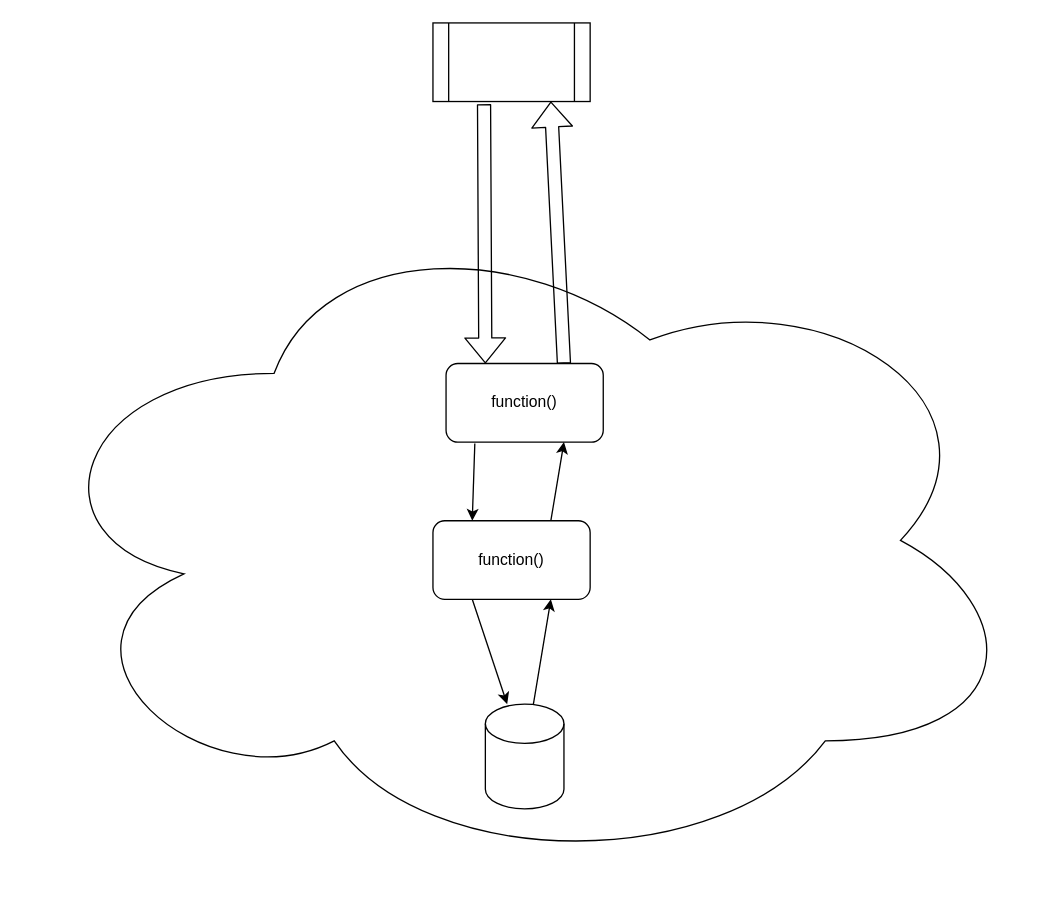
Image size: 1048x897. Some labels were removed from this diagram. The centre of each missing label's shape, as x and y in pixels:
"Browser" goes at point (511, 62).
"DB" goes at point (524, 756).
